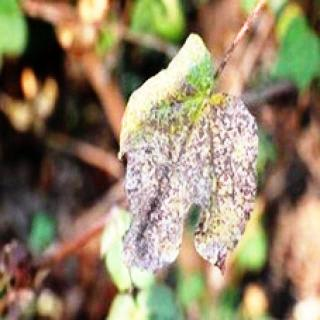grey mildew: (118, 30, 270, 270)
